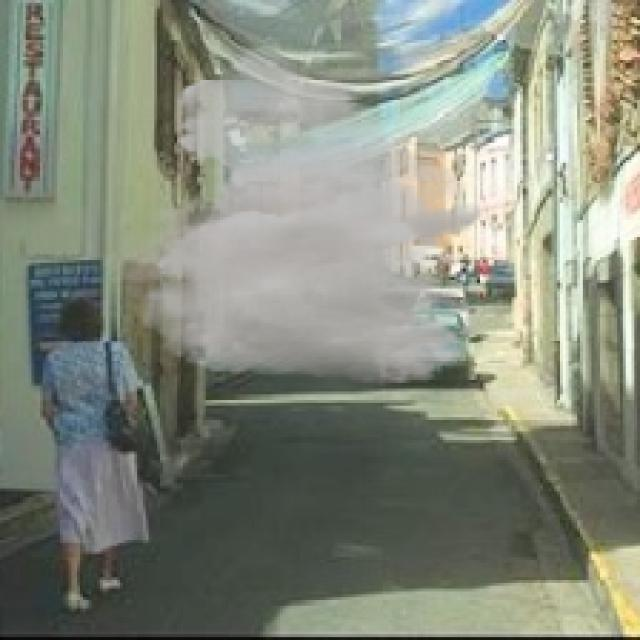Smoke: (91, 34, 486, 386)
